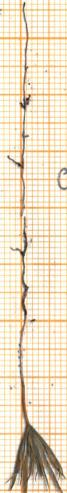flower: (1, 425, 67, 493)
root: (4, 0, 39, 320)
stem: (9, 320, 33, 426)
